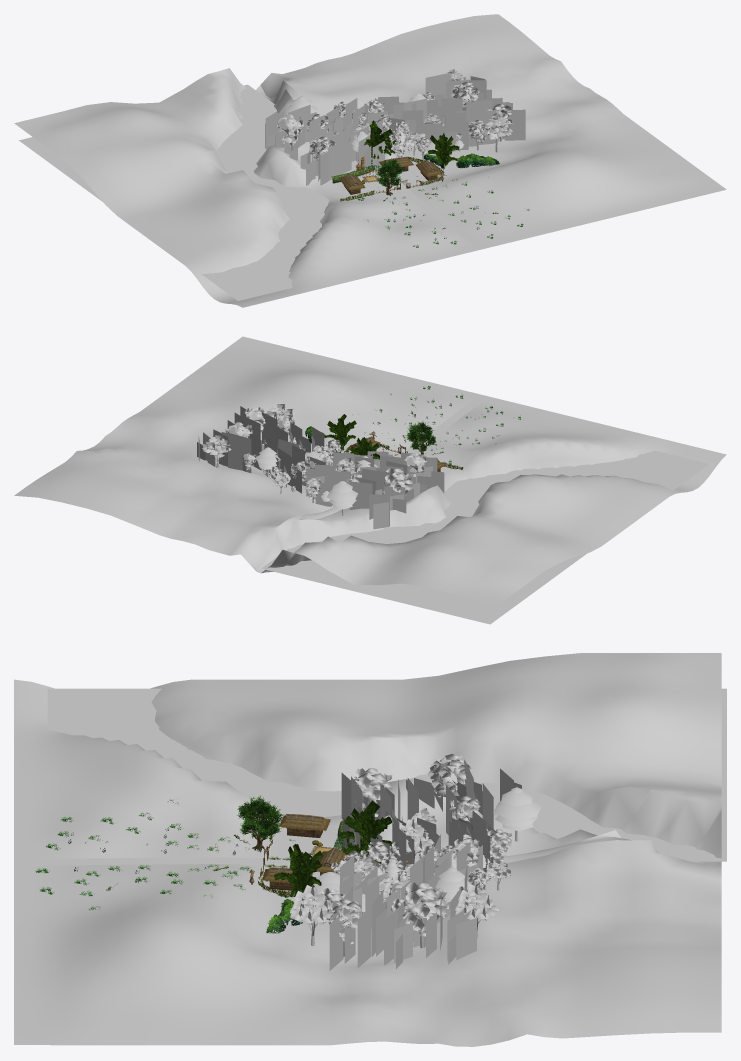
Rendered from fangzi05.fbx.
The picture shows the model from 3 angles, top to bottom: view 1: azimuth 30°, elevation 25°; view 2: azimuth 150°, elevation 25°; view 3: azimuth 270°, elevation 25°; orthographic projection. The views are drawn at different scales.
Parts seen in each view (by area): view 1: fangzi_di, shui, polySurface1774, pasted__polySurface1704, ppasted__Object03_23, pasted__polySurface1712, pPlane1137, polySurface1773, pPlane1036; view 2: fangzi_di, shui, pPlane1130, pasted__Object85, ppasted__Object03_23, pasted__polySurface1704, polySurface1774, pPlane1070, pasted__polySurface1707; view 3: fangzi_di, shui, pasted__polySurface1714, pasted__Object85, ppasted__Object03_23, polySurface1773, pasted__polySurface1712, polySurface1774, pasted__polySurface1704, pasted__polySurface1707, ppolySurface2200, pasted__polySurface1734 (+6 smaller).
Part boxes in pixels (x1,y1,x2,y2): fangzi_di: [14, 14, 726, 307]; shui: [19, 84, 328, 300]; polySurface1774: [428, 133, 459, 169]; pasted__polySurface1704: [277, 114, 303, 147]; ppasted__Object03_23: [376, 158, 403, 186]; pasted__polySurface1712: [483, 115, 512, 152]; pPlane1137: [504, 109, 525, 140]; polySurface1773: [364, 120, 392, 158]; pPlane1036: [328, 141, 343, 180]; fangzi_di: [14, 336, 726, 604]; shui: [261, 450, 709, 624]; pPlane1130: [228, 432, 251, 472]; pasted__Object85: [327, 480, 357, 515]; ppasted__Object03_23: [405, 421, 435, 451]; pasted__polySurface1704: [383, 468, 413, 495]; polySurface1774: [325, 414, 356, 451]; pPlane1070: [349, 481, 372, 509]; pasted__polySurface1707: [202, 435, 231, 467]; fangzi_di: [14, 653, 721, 1046]; shui: [47, 688, 726, 861]; pasted__polySurface1714: [402, 882, 447, 948]; pasted__Object85: [493, 786, 541, 841]; ppasted__Object03_23: [237, 795, 283, 839]; polySurface1773: [340, 800, 392, 854]; pasted__polySurface1712: [290, 885, 333, 946]; polySurface1774: [274, 844, 323, 896]; pasted__polySurface1704: [427, 754, 472, 797]; pasted__polySurface1707: [455, 884, 498, 938]; ppolySurface2200: [279, 813, 330, 837]; pasted__polySurface1734: [354, 768, 392, 816].
Bounding box in the file's own units: 244 × 27.08 × 201.
